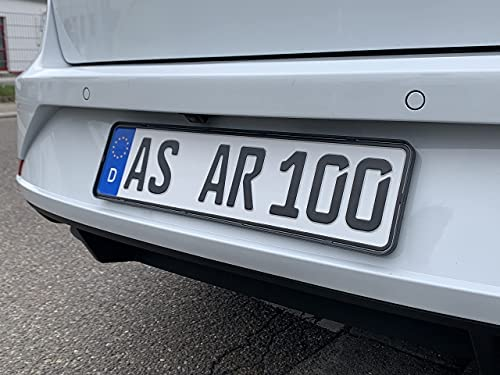tablica: (94, 118, 400, 249)
